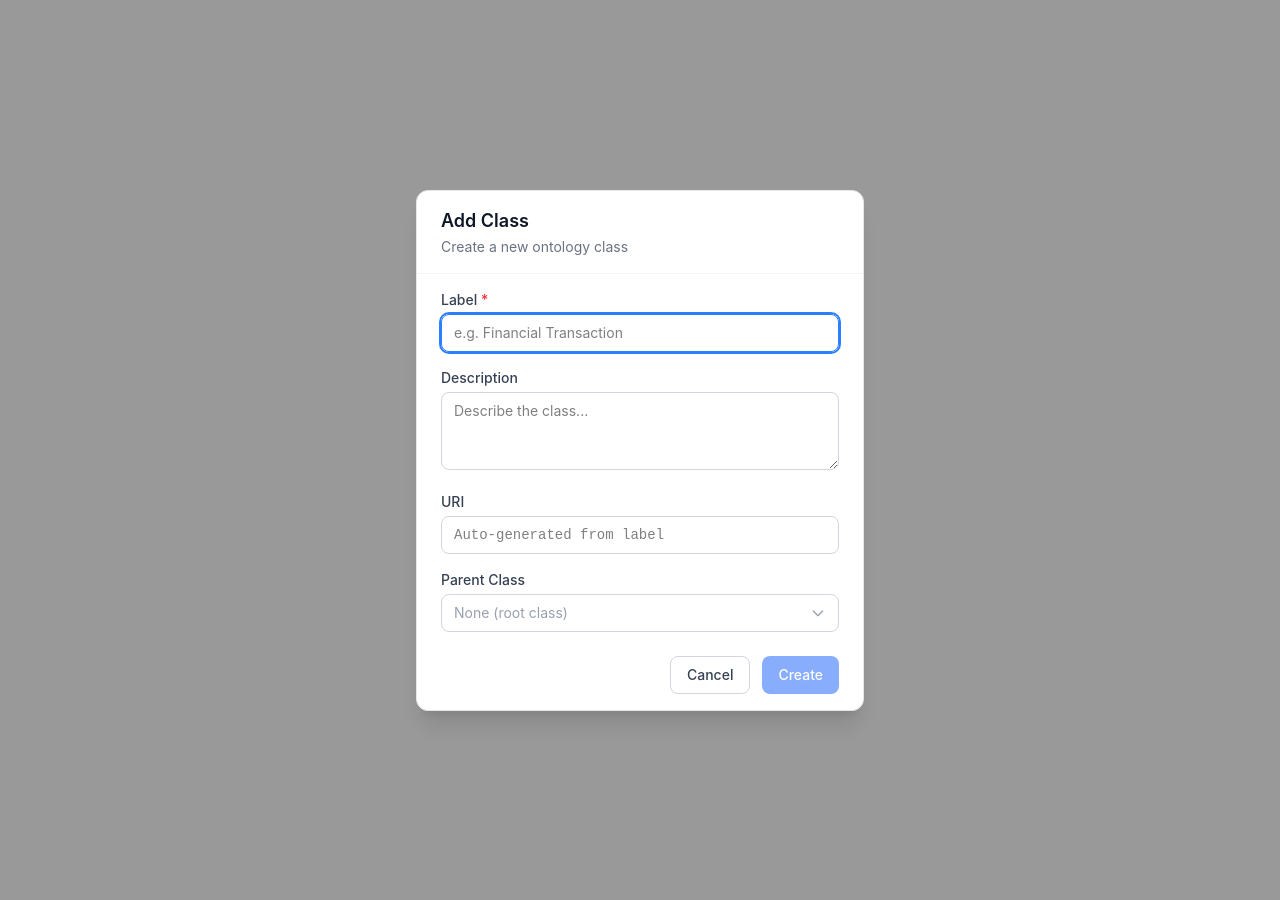
Test case: AddClassDialog › displays error on API failure
Type "Person" into the field with test id "class-label-input".
click(640, 332); type("Person")  # box 441,314 -> 839,352
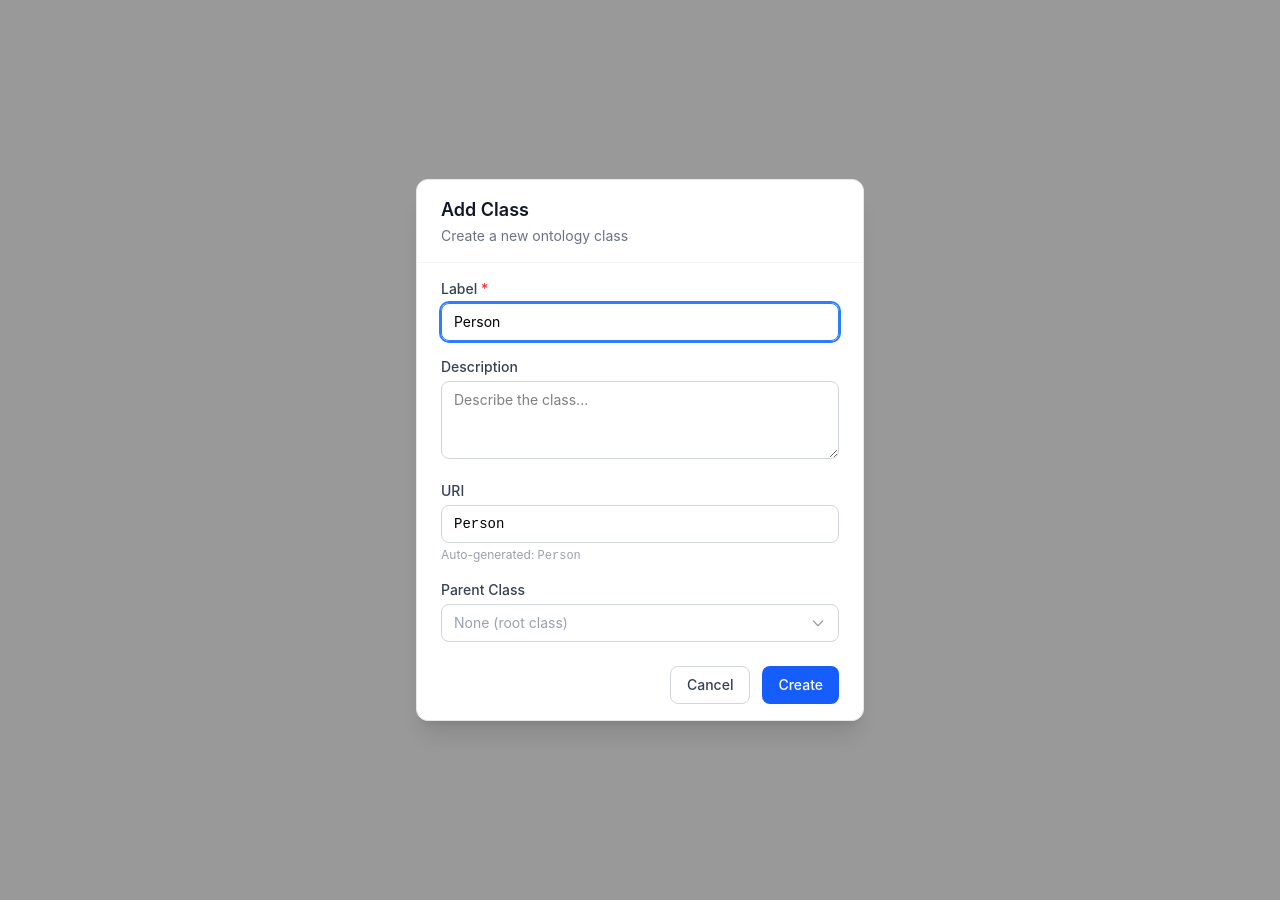
Click the button with test id "create-class-btn".
click(801, 685)  # box 762,666 -> 839,704
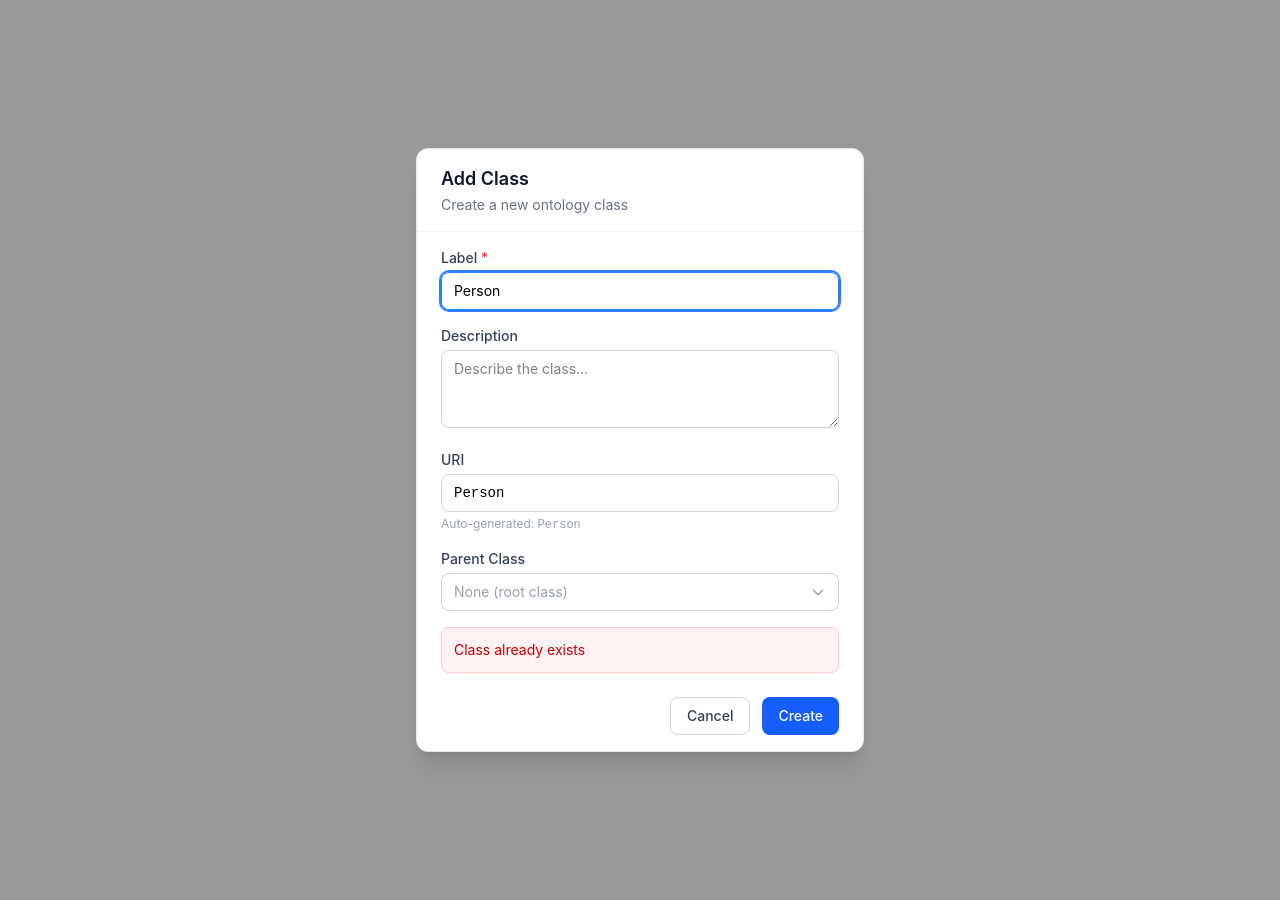
Now the text with test id "class-error" reads "Class already exists", box 454,641 -> 585,658
